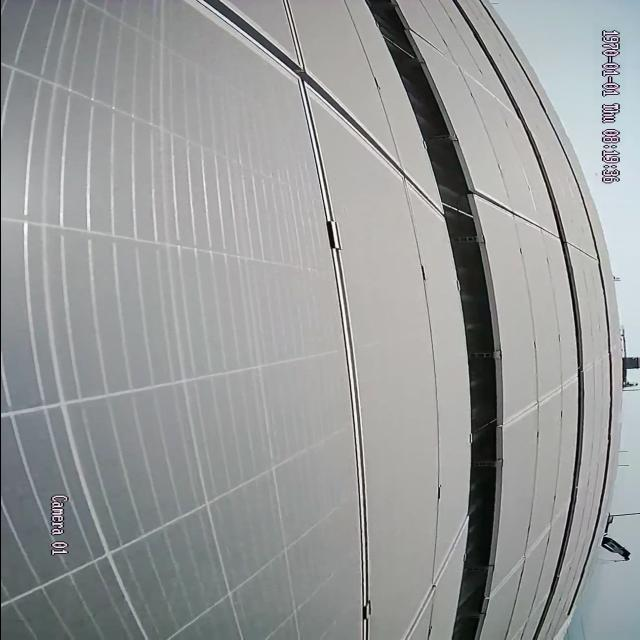interior panel: (183, 0, 435, 631), (398, 522, 462, 639), (489, 512, 560, 605), (482, 192, 552, 242), (511, 374, 571, 428)
outher panel: (364, 1, 500, 640)
